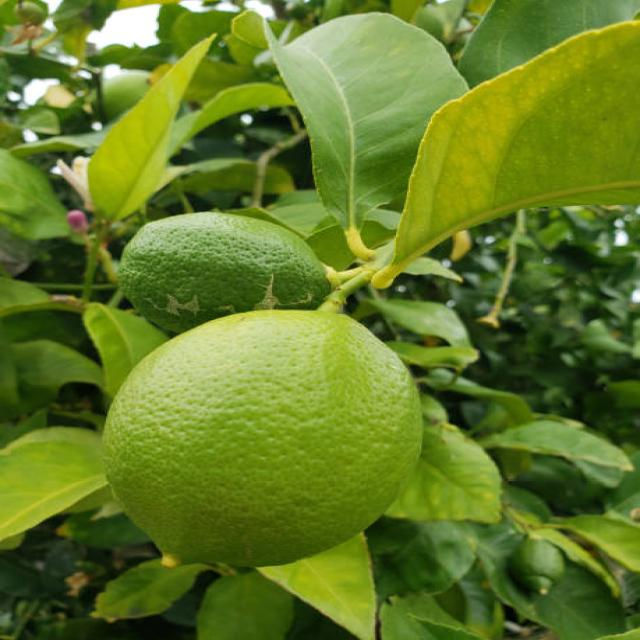Unripe: (101, 309, 424, 570), (116, 208, 336, 333)
